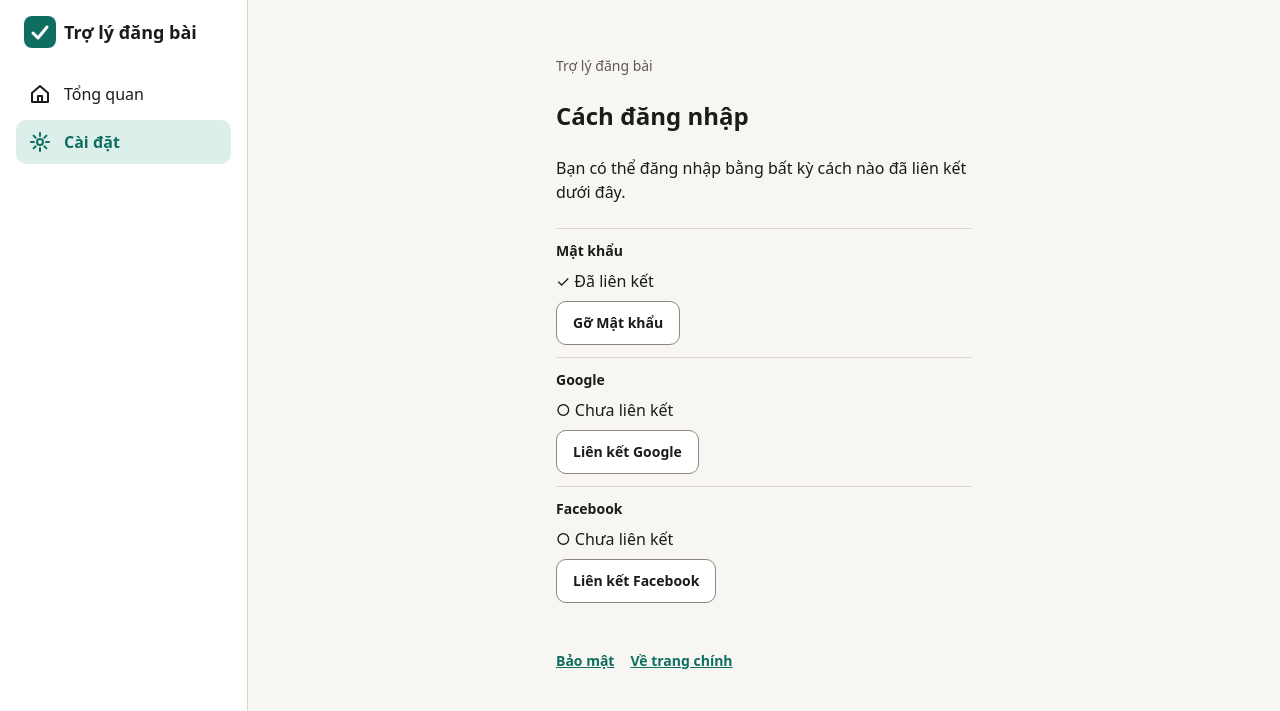
Scenario: LoginMethodsPage › gỡ cách cuối → hiện "Hãy thêm cách đăng nhập khác trước khi gỡ"
This screenshot has width=1280, height=711.
Click the button "Gỡ Mật khẩu" at (618, 323), box [556, 301, 680, 345]
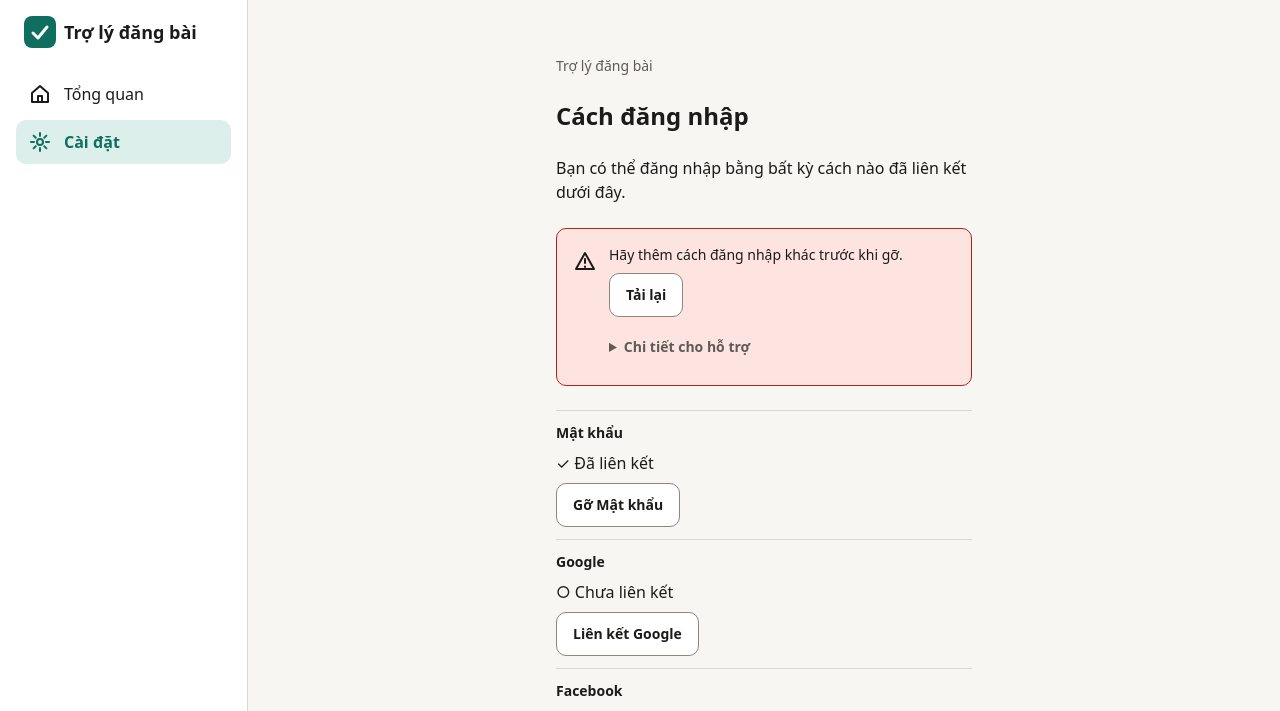
Expected: the text "Hãy thêm cách đăng nhập khác trước khi gỡ." is shown, [609, 245, 903, 264]
